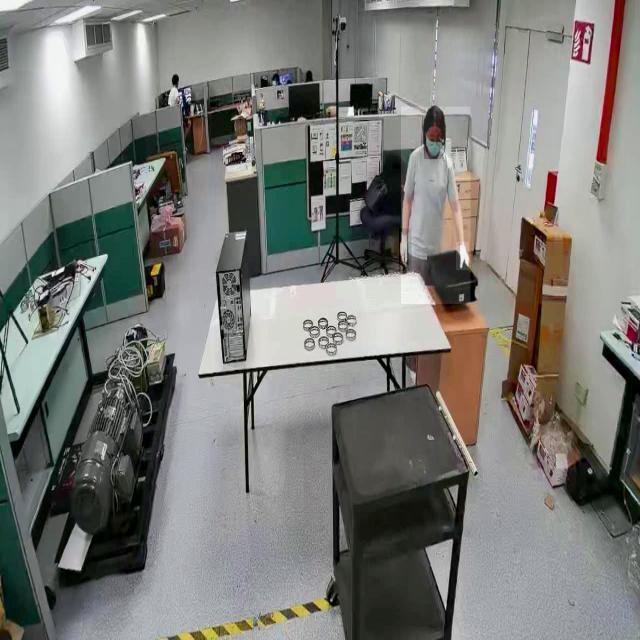face_mask: (424, 125, 444, 159)
glasses: (426, 134, 444, 150)
hand_glove: (398, 228, 412, 272), (455, 242, 469, 271)
head_nohelmet: (423, 104, 447, 124), (172, 73, 180, 79)
person: (400, 107, 470, 305)
